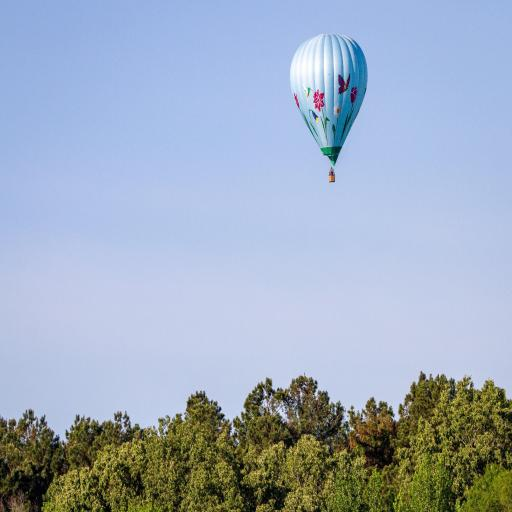hot air ballon: (290, 34, 367, 182)
